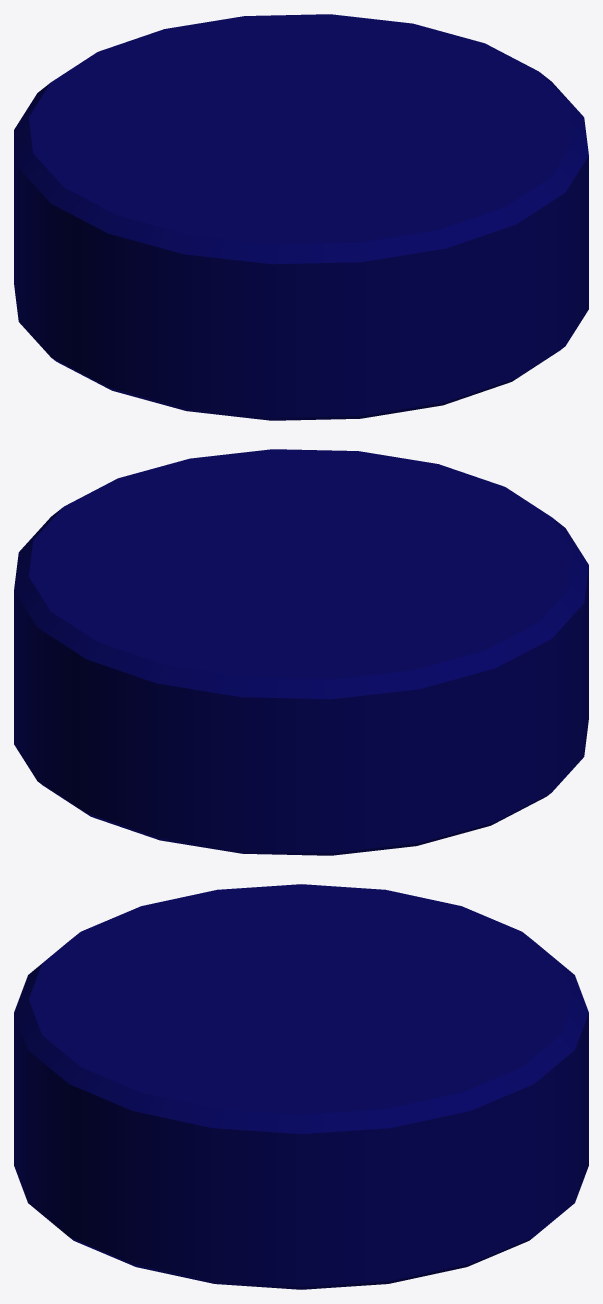
Rendered from Bottle Cap Plastic.fbx.
3 views of the same model, one above another, from view 1: azimuth 30°, elevation 25°; view 2: azimuth 150°, elevation 25°; view 3: azimuth 270°, elevation 25° (orthographic).
Visible parts, largest first — view 1: pCylinder2; view 2: pCylinder2; view 3: pCylinder2.
Boxes of the visible parts, x1,y1,x2,y2 form: pCylinder2: (14,14,588,420); pCylinder2: (14,449,588,855); pCylinder2: (14,884,588,1289).
Size of the model in its own units: 3.54 by 1.16 by 3.54.
